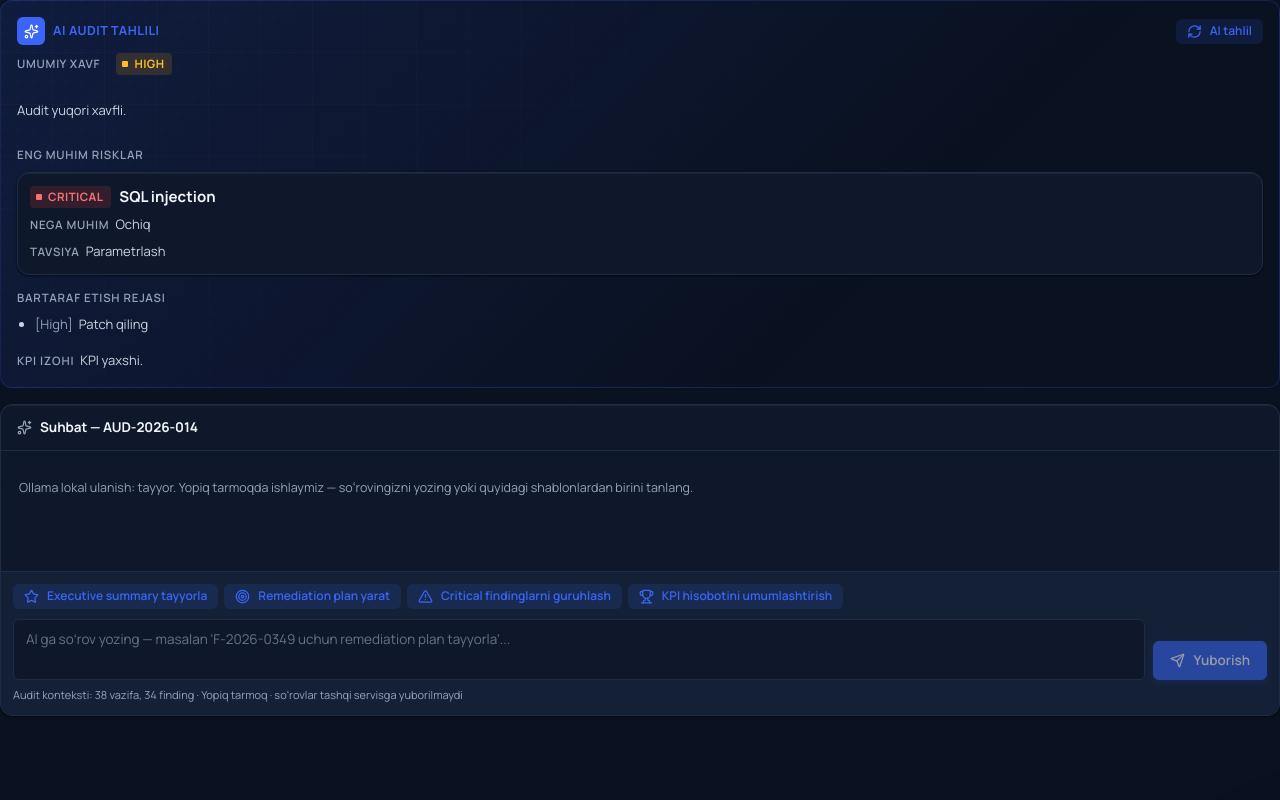
Test: AiTab › sends a chat message to /api/ai (chat scope)
This screenshot has width=1280, height=800.
Type "Xulosa ber" into the text box labelled "AI ga soʻrov yozing". click: [579, 649]
box: [13,619,1146,680]
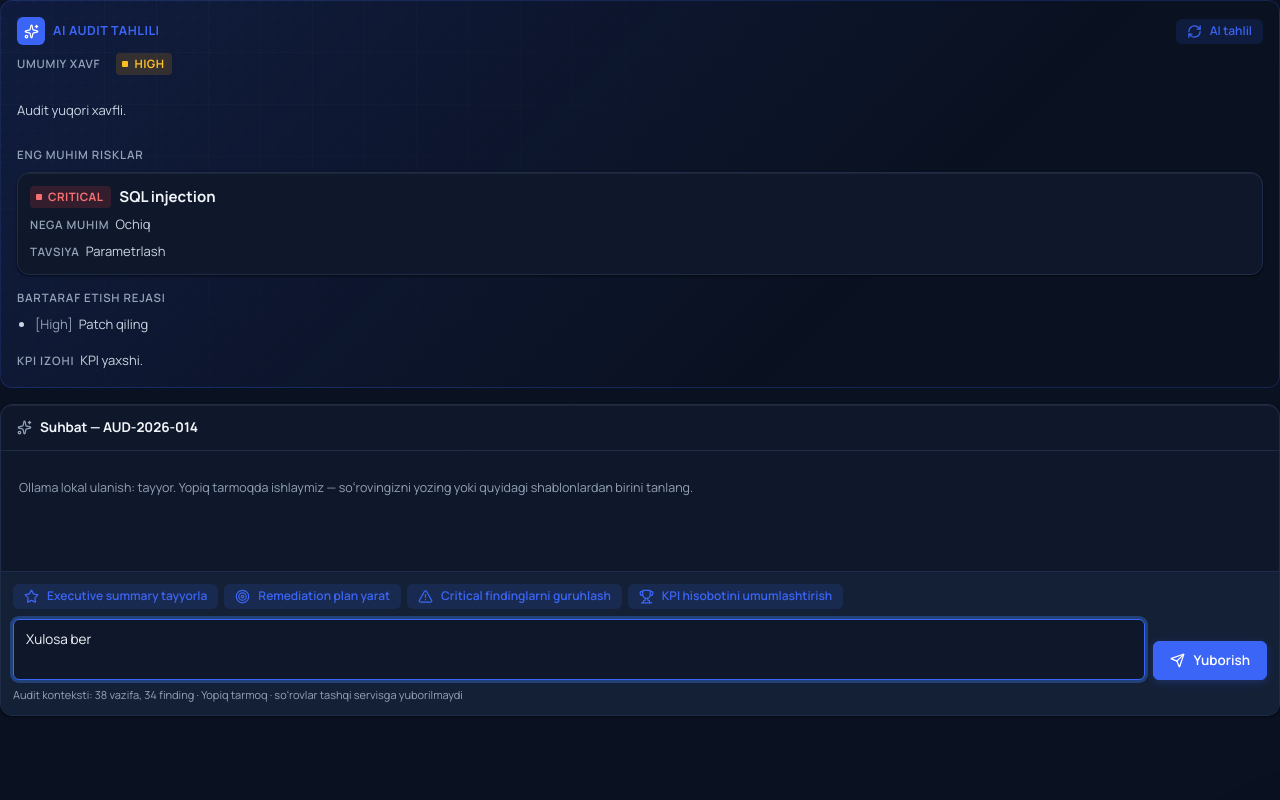
Click the button "Yuborish". click: [1210, 661]
box: [1154,642,1267,680]
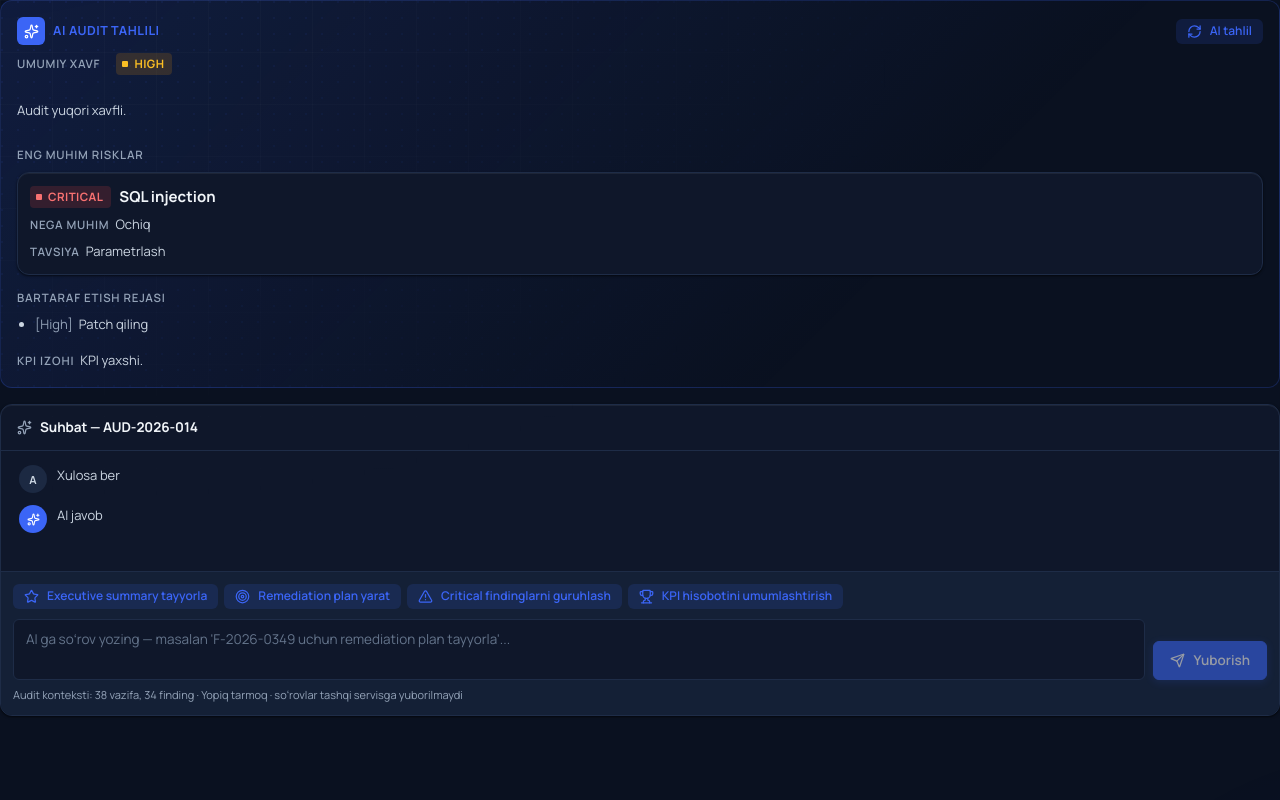
Result: the text "AI javob" is shown at [57,506,103,524]
